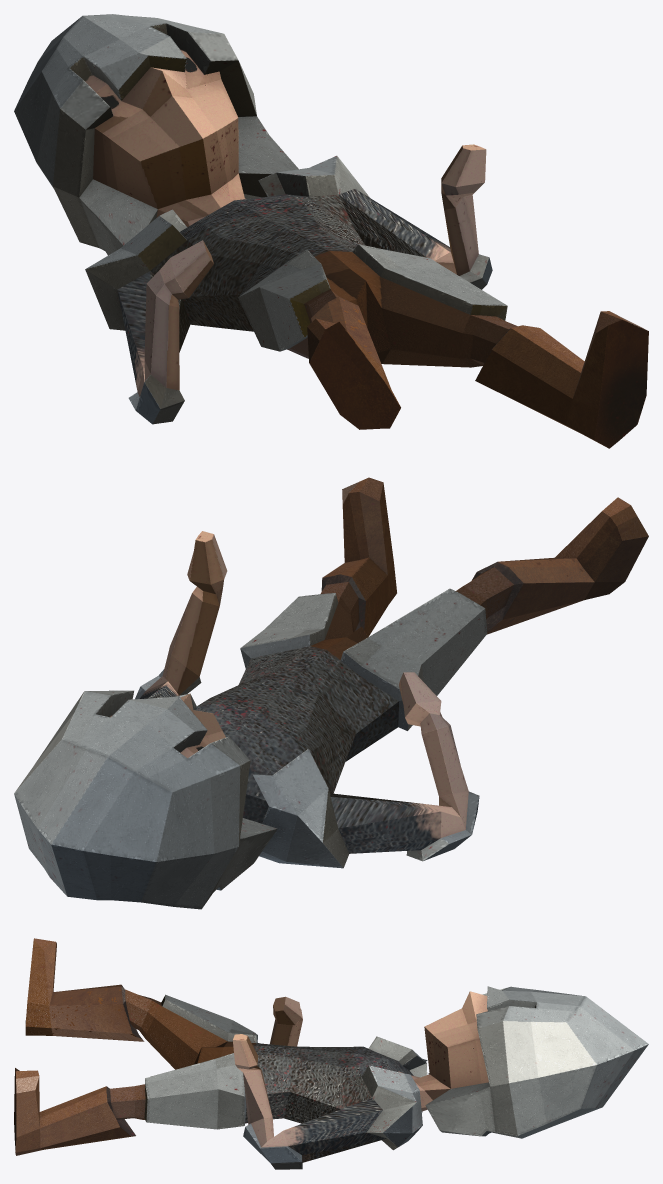
File: Walk_Soldier_26.obj
3 views of the same model, one above another, from view 1: azimuth 30°, elevation 25°; view 2: azimuth 150°, elevation 25°; view 3: azimuth 270°, elevation 25° (orthographic). The views are drawn at different scales.
Parts seen in each view (by area): view 1: Soldado_LowPolySTD; view 2: Soldado_LowPolySTD; view 3: Soldado_LowPolySTD.
Boxes of the visible parts, x1,y1,x2,y2 form: Soldado_LowPolySTD: (14, 14, 648, 448); Soldado_LowPolySTD: (14, 477, 648, 909); Soldado_LowPolySTD: (14, 938, 648, 1169).
Size of the model in its own units: 0.7122 by 0.4556 by 1.6.
